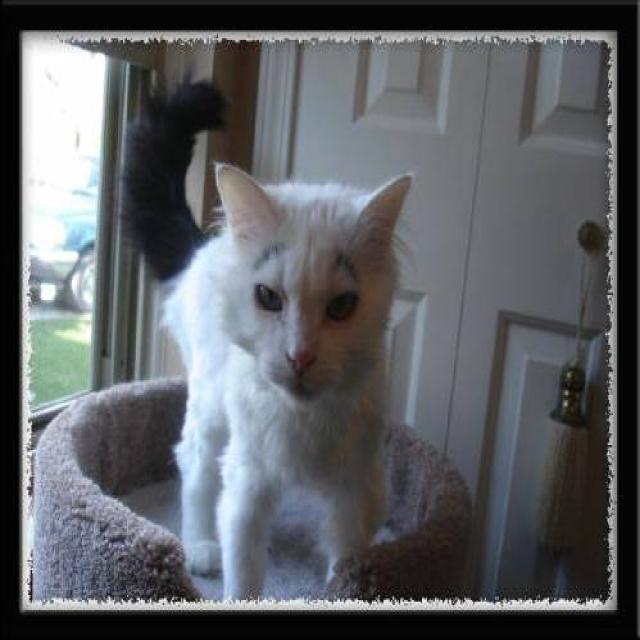cat: (118, 71, 413, 602)
